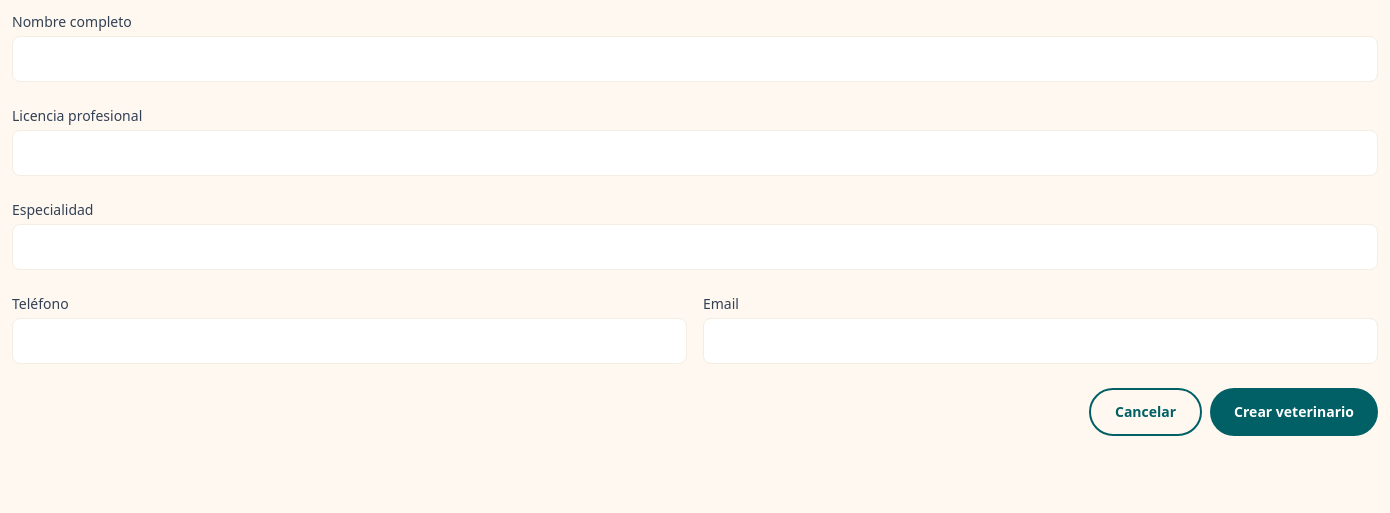
VeterinarianForm › shows validation errors for empty required fields
Click the button "Crear veterinario".
click(1294, 412)  # box [1210,388,1378,436]
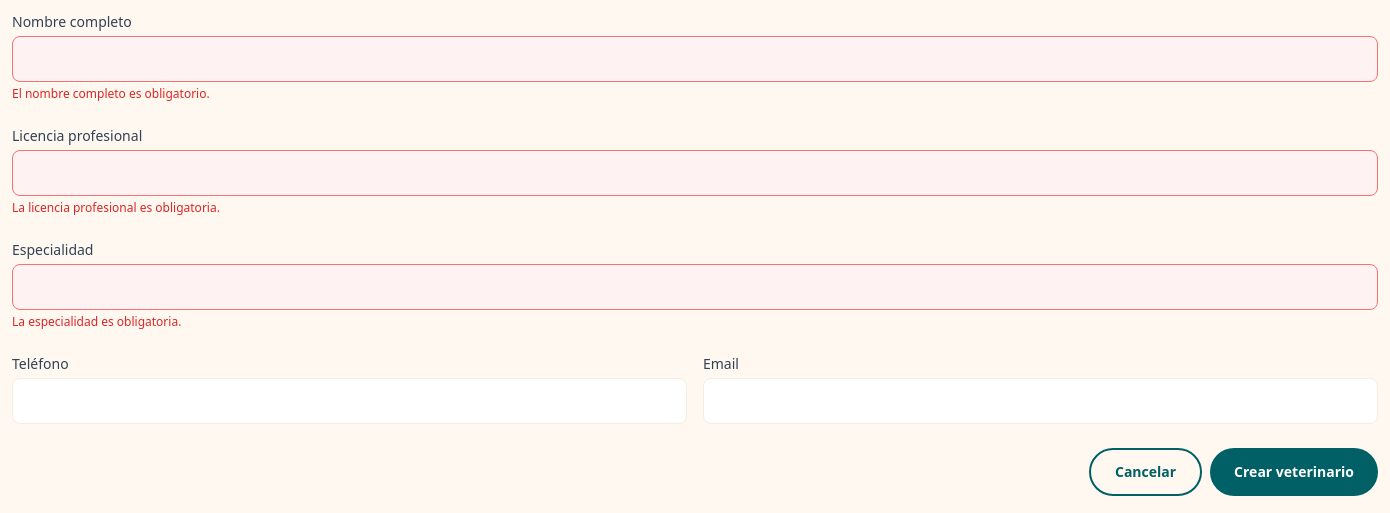
Expected: the text "El nombre completo es obligatorio." is shown, [12,85,210,102]
Expected: the text "La licencia profesional es obligatoria." is shown, [12,199,220,216]
